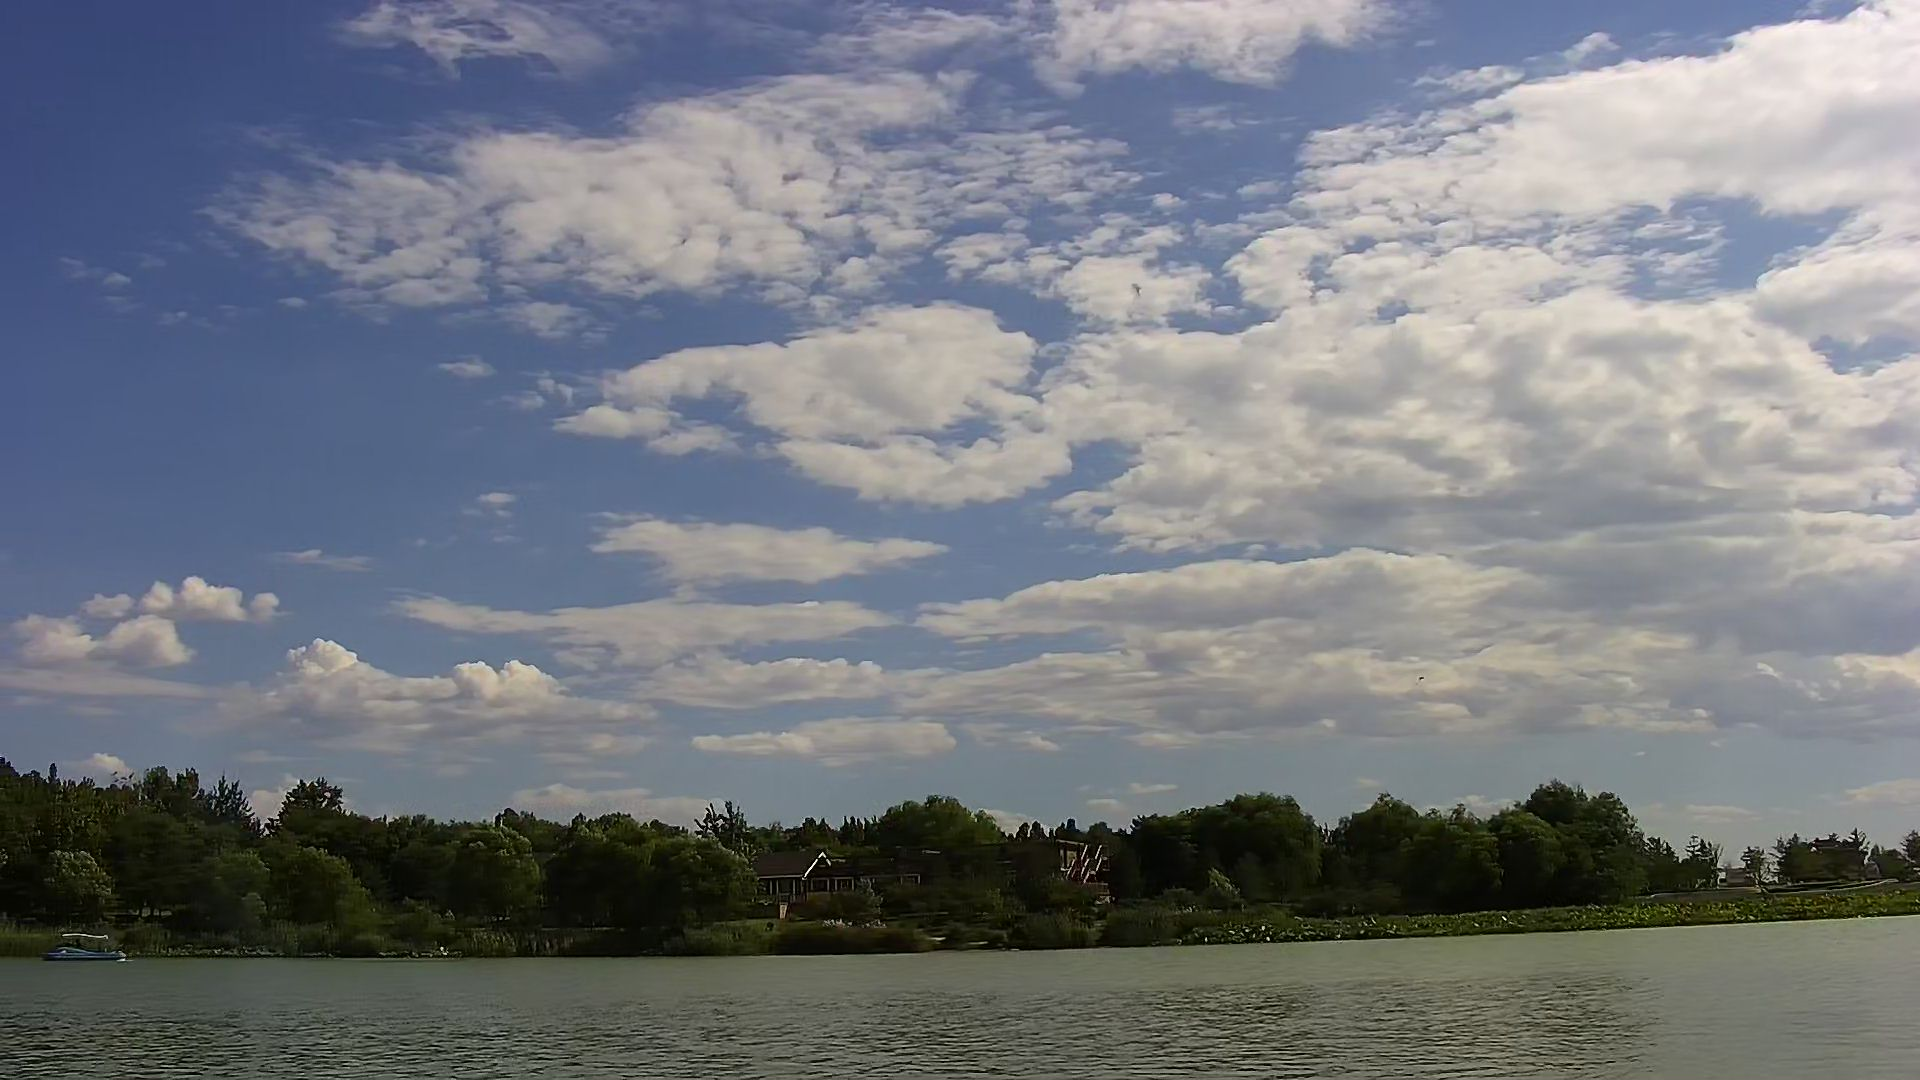boat: (30, 927, 133, 972)
